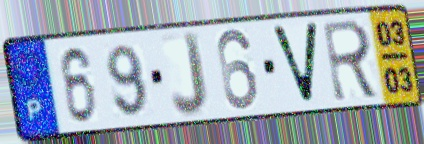6: (215, 27, 261, 114), (58, 44, 100, 125)
9: (104, 41, 150, 119)
J: (169, 29, 211, 120)
R: (320, 16, 383, 104)
V: (267, 20, 322, 107)
